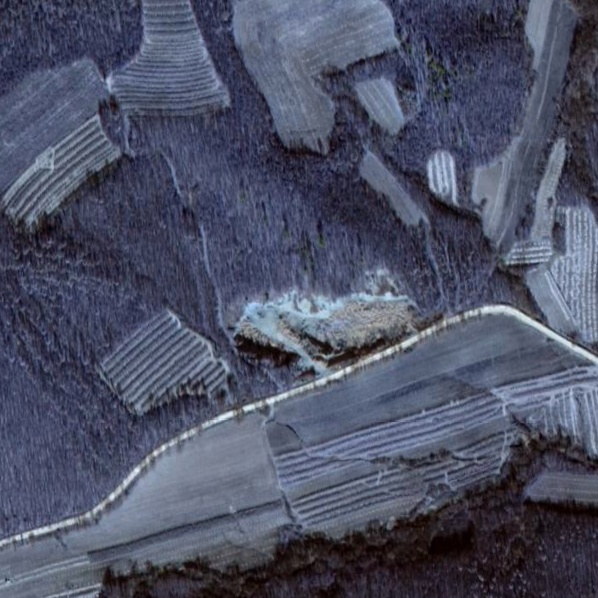slope: (229, 281, 423, 376)
